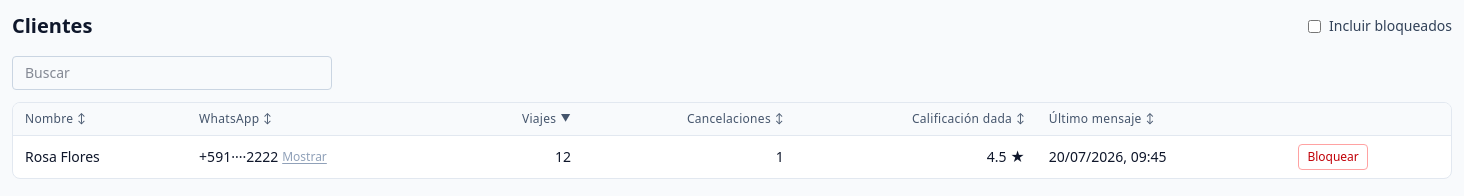
Scenario: listado de clientes › los teléfonos llegan enmascarados con revelado por fila
This screenshot has width=1464, height=196.
Expected: the text "+591····2222" is shown, 199,147 -> 278,167
Step 1. Click the button "Mostrar" → point(304, 157), box 282,149 -> 327,165
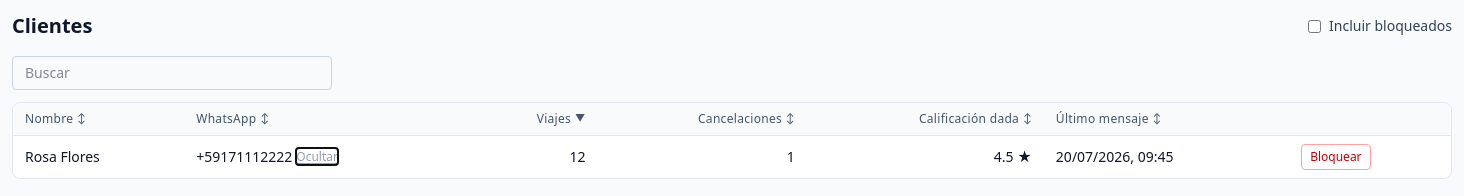
Now the text "+59171112222" is shown, box 196,147 -> 292,167
